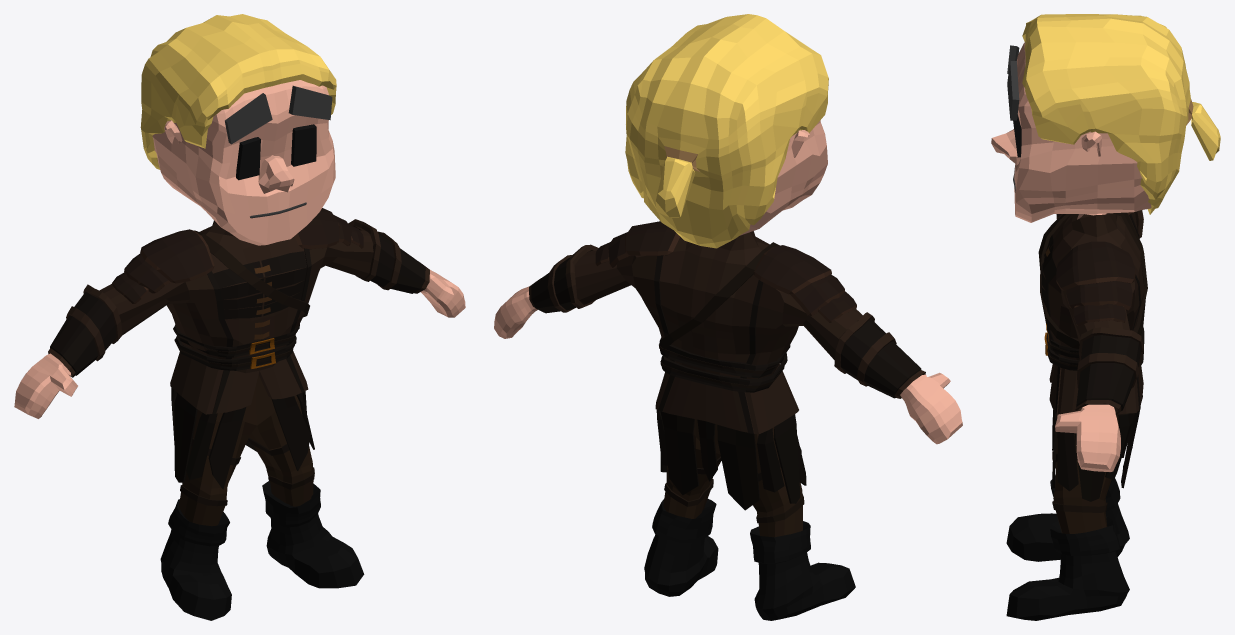
Rendered from RogueSet_T1_MainChar.fbx.
3 views of the same model, side by side, from view 1: azimuth 30°, elevation 25°; view 2: azimuth 150°, elevation 25°; view 3: azimuth 270°, elevation 25° (orthographic). The views are drawn at different scales.
Visible parts, largest first — view 1: Joe; view 2: Joe; view 3: Joe.
Part boxes in pixels (x1,y1,x2,y2): Joe: (14,14,465,620); Joe: (494,14,962,620); Joe: (991,14,1220,620).
Size of the model in its own units: 330 by 394 by 145.
